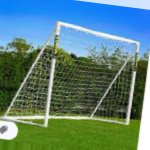goals: (2, 20, 141, 130)
